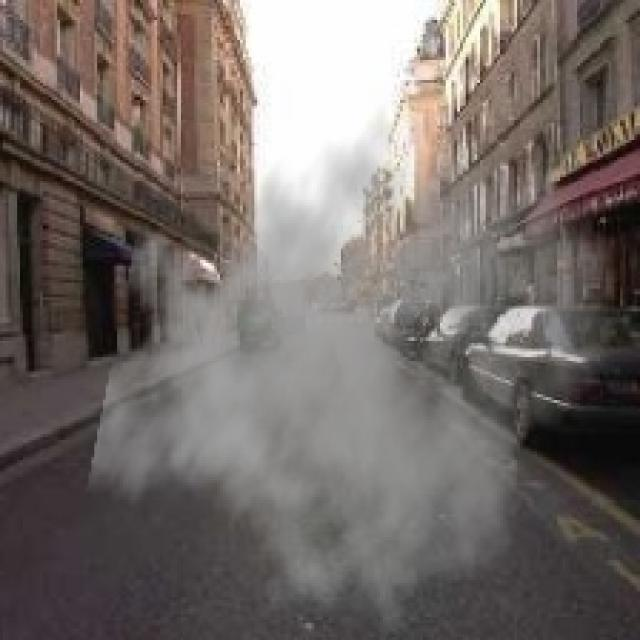smoke: (86, 83, 617, 637)
